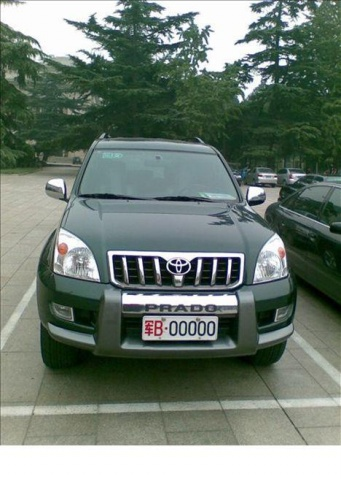plate_number: (141, 314, 217, 343)
